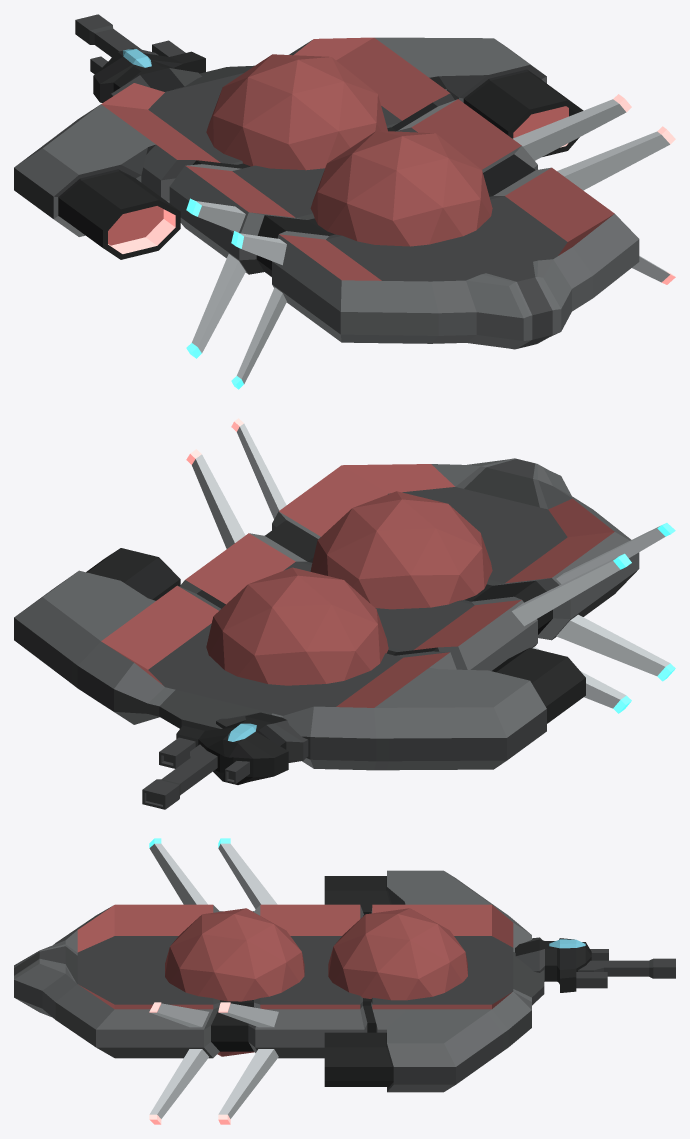
Rendered from Tanker_S_LODGroup.fbx.
3 views of the same model, one above another, from view 1: azimuth 30°, elevation 25°; view 2: azimuth 150°, elevation 25°; view 3: azimuth 270°, elevation 25° (orthographic). The views are drawn at different scales.
Visible parts, largest first — view 1: Tanker S_LOD0; view 2: Tanker S_LOD0; view 3: Tanker S_LOD0.
Part boxes in pixels (x1=…): Tanker S_LOD0: x1=14, y1=14, x2=675, y2=389; Tanker S_LOD0: x1=14, y1=418, x2=675, y2=809; Tanker S_LOD0: x1=14, y1=838, x2=675, y2=1124.
Size of what is drawn, in the model's own units: 3.14 by 1.07 by 4.66.
